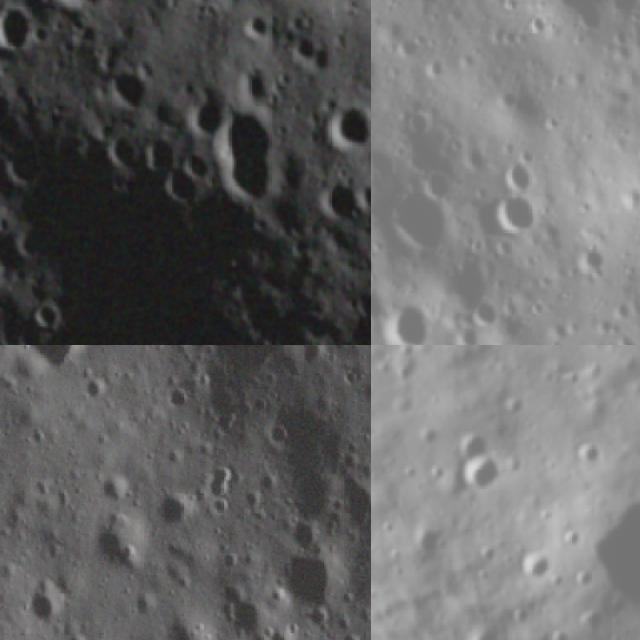crater: (561, 481, 640, 612), (212, 106, 288, 200), (276, 544, 356, 614), (380, 187, 465, 251), (96, 58, 162, 124), (89, 513, 149, 580), (20, 571, 74, 631), (211, 582, 266, 640), (179, 79, 231, 136), (0, 0, 46, 61), (389, 290, 440, 345), (318, 99, 371, 150), (316, 170, 364, 223), (17, 345, 97, 376), (155, 489, 203, 532), (461, 454, 506, 497), (499, 188, 535, 236), (516, 546, 558, 584), (257, 612, 313, 640), (236, 6, 278, 41), (27, 300, 66, 334), (502, 158, 546, 186), (456, 434, 497, 464), (576, 440, 612, 470), (402, 103, 435, 135), (0, 136, 17, 196), (0, 84, 18, 124), (523, 15, 554, 38), (461, 626, 506, 640), (371, 376, 373, 408)
